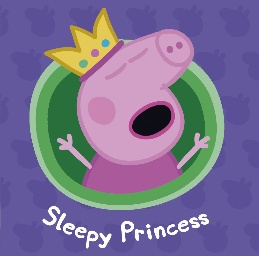Peppa: (42, 6, 212, 196)
